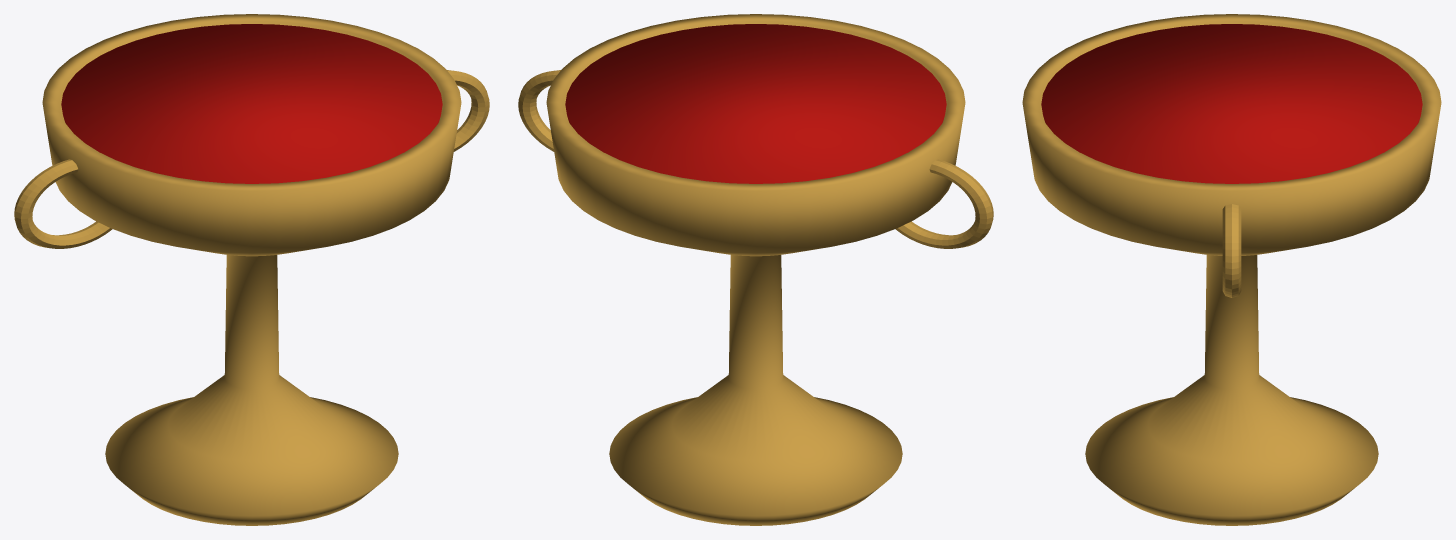
3 views of the same model, side by side, from view 1: azimuth 30°, elevation 25°; view 2: azimuth 150°, elevation 25°; view 3: azimuth 270°, elevation 25° (orthographic).
Visible parts, largest first — view 1: TI067 / gold foot stem and hollow bowl, TI067 / red inner lining, TI067 / separate cup loop handle, TI067 / separate cup loop handle.001; view 2: TI067 / gold foot stem and hollow bowl, TI067 / red inner lining, TI067 / separate cup loop handle, TI067 / separate cup loop handle.001; view 3: TI067 / gold foot stem and hollow bowl, TI067 / red inner lining, TI067 / separate cup loop handle.001.
Part boxes in pixels (<box>): TI067 / gold foot stem and hollow bowl: <box>42,14,461,525</box>; TI067 / red inner lining: <box>61,24,442,183</box>; TI067 / separate cup loop handle: <box>14,159,112,248</box>; TI067 / separate cup loop handle.001: <box>447,70,489,151</box>; TI067 / gold foot stem and hollow bowl: <box>546,14,965,525</box>; TI067 / red inner lining: <box>565,24,946,183</box>; TI067 / separate cup loop handle: <box>895,159,993,248</box>; TI067 / separate cup loop handle.001: <box>518,70,560,151</box>; TI067 / gold foot stem and hollow bowl: <box>1022,14,1441,525</box>; TI067 / red inner lining: <box>1041,24,1422,183</box>; TI067 / separate cup loop handle.001: <box>1222,204,1241,297</box>.
Bounding box in the file's own units: 2.61 × 1.95 × 2.
